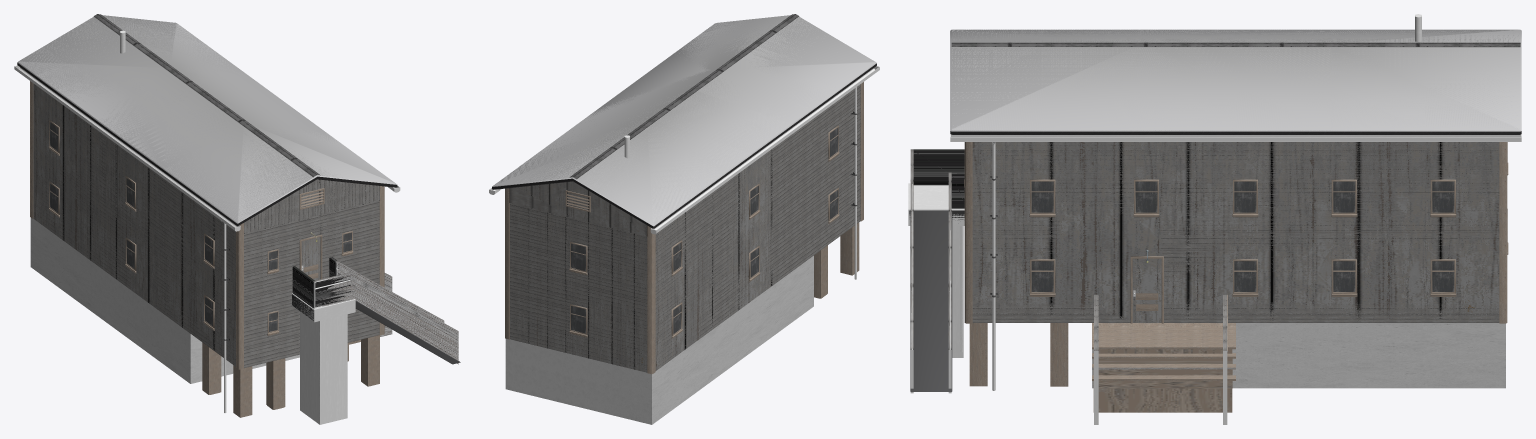
File: si_fishingDwellings.DAE
3 views of the same model, side by side, from view 1: azimuth 30°, elevation 25°; view 2: azimuth 150°, elevation 25°; view 3: azimuth 270°, elevation 25° (orthographic). The views are drawn at different scales.
Parts seen in each view (by area): view 1: Colmesh-1, Dwellings_a500, Dwellings_a350, Dwellings_a1000; view 2: Dwellings_a500, Colmesh-1, Dwellings_a1000, Dwellings_a350; view 3: Colmesh-1, Dwellings_a500, Dwellings_a1000.
Part boxes in pixels (x1,y1,x2,y2): Colmesh-1: [14, 14, 460, 424]; Dwellings_a500: [14, 14, 456, 419]; Dwellings_a350: [59, 86, 321, 348]; Dwellings_a1000: [16, 51, 379, 384]; Dwellings_a500: [489, 14, 879, 424]; Colmesh-1: [489, 14, 878, 424]; Dwellings_a1000: [491, 16, 876, 338]; Dwellings_a350: [566, 69, 837, 307]; Colmesh-1: [908, 14, 1521, 424]; Dwellings_a500: [909, 15, 1520, 391]; Dwellings_a1000: [964, 47, 1519, 390].
Bounding box in the file's own units: 8.84 × 17.04 × 9.92.
